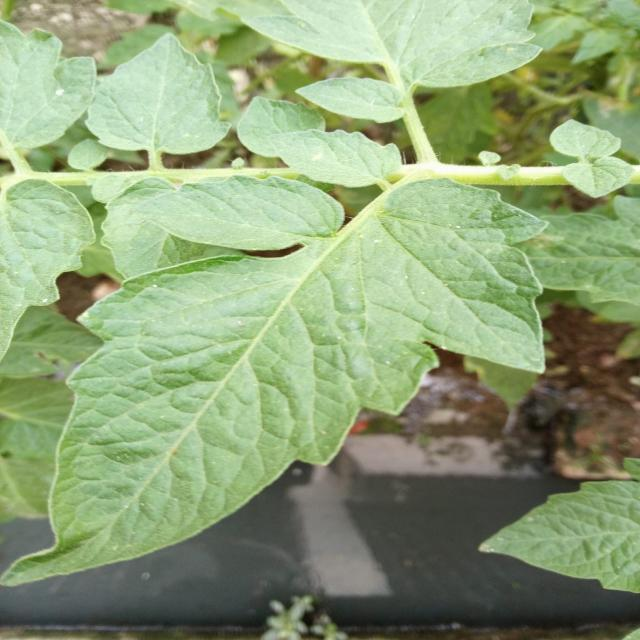Healthy: (0, 40, 602, 632), (70, 22, 250, 199)
